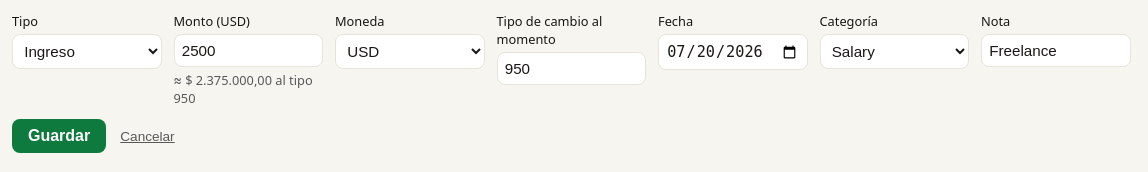
Test: TransactionForm › edit mode › cancels edit mode and resets the form
Click the button with test id "cancel" at (148, 136), box [114,128,181,145]
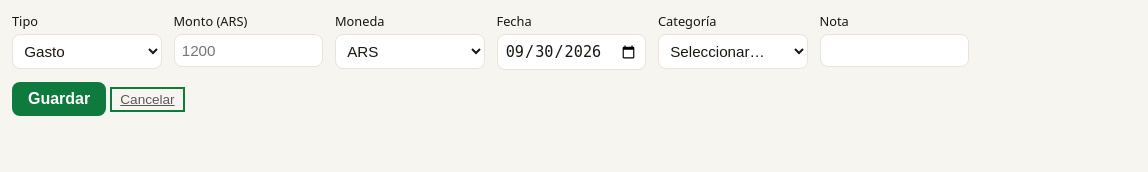
expect the field with test id "amount" is empty: met, box [174,34,323,67]
expect the dropdown with test id "currency" shows "ARS": met, box [335,34,484,69]
expect the dropdown with test id "category" shows "Seleccionar…": met, box [658,34,808,69]
